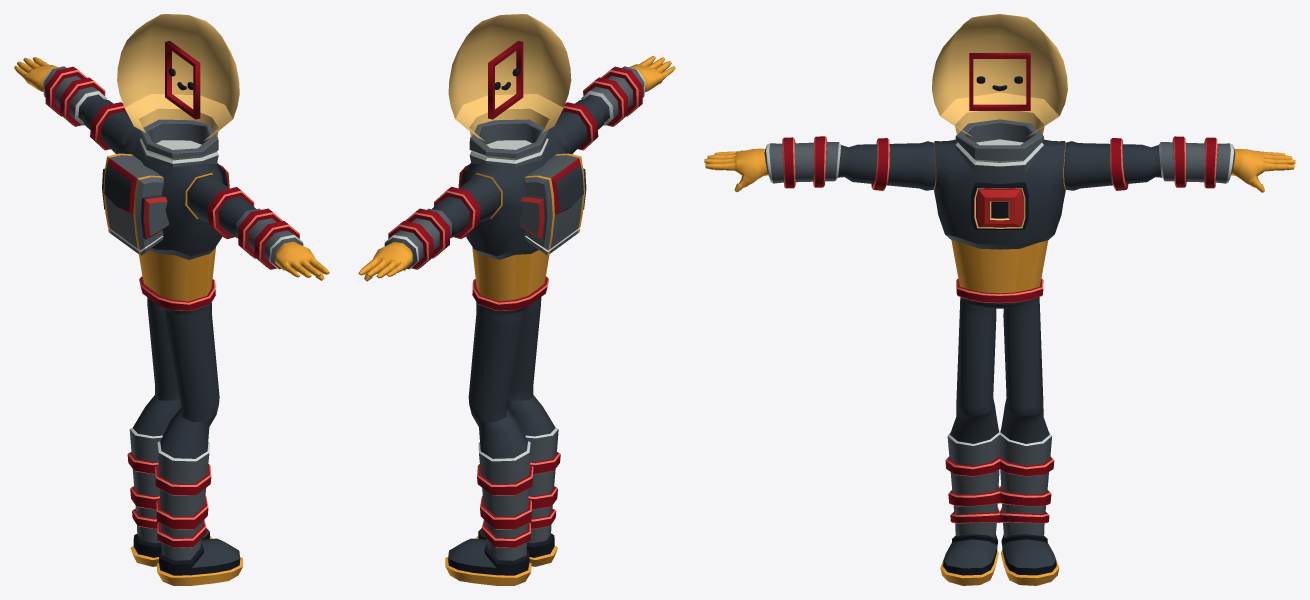
The model's file is Astronaut.glb.
3 views of the same model, side by side, from view 1: azimuth 30°, elevation 25°; view 2: azimuth 150°, elevation 25°; view 3: azimuth 270°, elevation 25° (orthographic).
Visible parts, largest first — view 1: _100Avatars_111_SquareCosmonaut; view 2: _100Avatars_111_SquareCosmonaut; view 3: _100Avatars_111_SquareCosmonaut.
Boxes of the visible parts, bbox=[...] form: _100Avatars_111_SquareCosmonaut: bbox=[14, 14, 329, 585]; _100Avatars_111_SquareCosmonaut: bbox=[358, 14, 675, 585]; _100Avatars_111_SquareCosmonaut: bbox=[704, 14, 1295, 585].
Bounding box in the file's own units: 1.04 × 4.78 × 4.69.
Materials: 1 (1 with a texture image).
